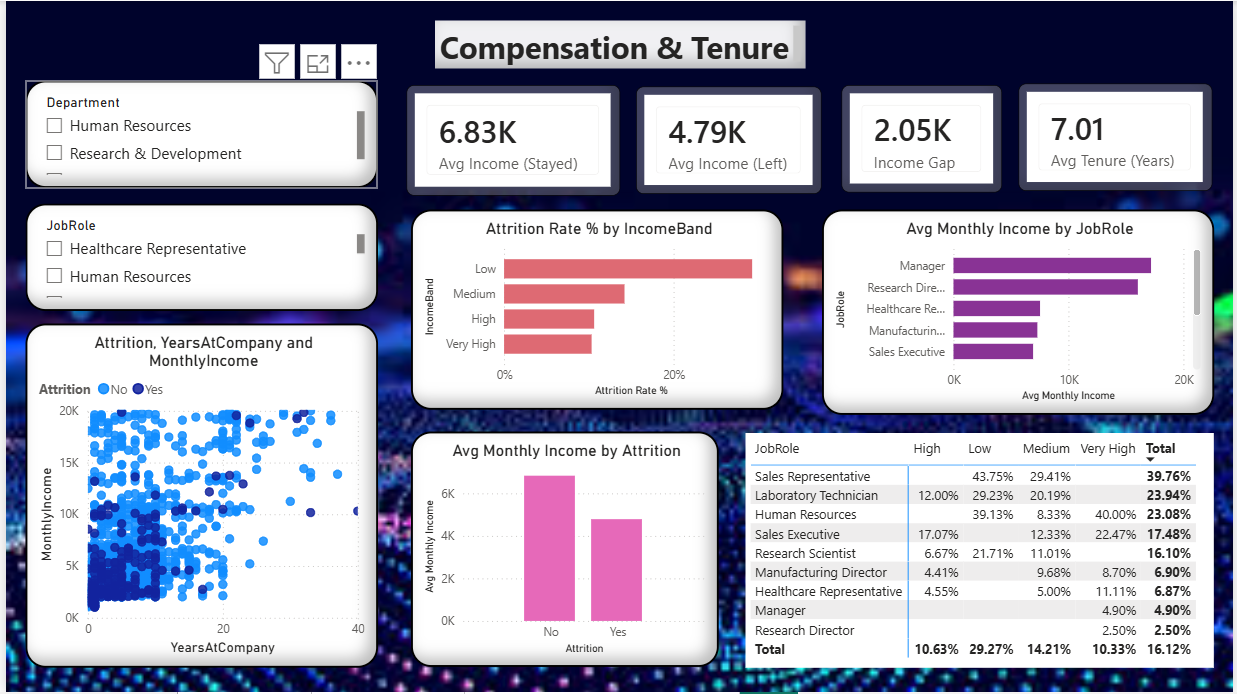

The dashboard page shown, as its layout file describes it:
{"tool":"powerbi","page":{"name":"Compensation and Tenure","canvas":[1280,720],"ordinal":2},"visuals":[{"type":"textbox","box":[446.6,20.7,386.2,50],"z":0},{"type":"cardVisual","fields":{"Data":["Employees.Avg Income (Stayed)"]},"box":[417.2,87.9,222.4,115.5],"z":1000},{"type":"cardVisual","fields":{"Data":["Employees.Avg Income (Left)"]},"box":[656.9,89.7,193.1,112.1],"z":2000},{"type":"cardVisual","fields":{"Data":["Employees.Income Gap"]},"box":[870.7,87.9,167.2,112.1],"z":3000},{"type":"cardVisual","fields":{"Data":["Employees.Avg Tenure (Years)"]},"box":[1055.2,86.2,201.7,112.1],"z":4000},{"type":"clusteredBarChart","fields":{"Category":["Employees.IncomeBand"],"Y":["Employees.Attrition Rate %"]},"box":[422.4,217.2,387.9,208.6],"z":5000},{"type":"clusteredColumnChart","fields":{"Category":["Employees.Attrition"],"Y":["Employees.Avg Monthly Income"]},"box":[422,448.6,320.4,245.4],"z":6000},{"type":"pivotTable","fields":{"Rows":["Employees.JobRole"],"Columns":["Employees.IncomeBand"],"Values":["Employees.Attrition Rate %"]},"box":[770.7,450,487.9,244.8],"z":7000},{"type":"clusteredBarChart","fields":{"Category":["Employees.JobRole"],"Y":["Employees.Avg Monthly Income"]},"box":[850,217.2,408.6,213.8],"z":8000},{"type":"scatterChart","fields":{"X":["Employees.YearsAtCompany"],"Series":["Employees.Attrition"],"Y":["Employees.MonthlyIncome"]},"box":[20.7,336.2,367.2,358.6],"z":9000},{"type":"slicer","fields":{"Values":["Employees.Department"]},"box":[20.7,82.8,367.2,112.1],"z":10000},{"type":"slicer","fields":{"Values":["Employees.JobRole"]},"box":[20.7,210.3,367.2,112.1],"z":11000}]}

Visuals, with their boxes in screenshot pixels (x1, y1, x2, y2), scaled from the page's 1280x720 canvas onto the 1237x694 screenshot:
textbox: 432:20:805:68
cardVisual - Employees.Avg Income (Stayed): 403:85:618:196
cardVisual - Employees.Avg Income (Left): 635:86:821:195
cardVisual - Employees.Income Gap: 841:85:1003:193
cardVisual - Employees.Avg Tenure (Years): 1020:83:1215:191
clusteredBarChart - Employees.IncomeBand x Employees.Attrition Rate %: 408:209:783:410
clusteredColumnChart - Employees.Attrition x Employees.Avg Monthly Income: 408:432:717:669
pivotTable - Employees.JobRole x Employees.IncomeBand: 745:434:1216:670
clusteredBarChart - Employees.JobRole x Employees.Avg Monthly Income: 821:209:1216:415
scatterChart - Employees.YearsAtCompany x Employees.Attrition: 20:324:375:670
slicer - Employees.Department: 20:80:375:188
slicer - Employees.JobRole: 20:203:375:311
